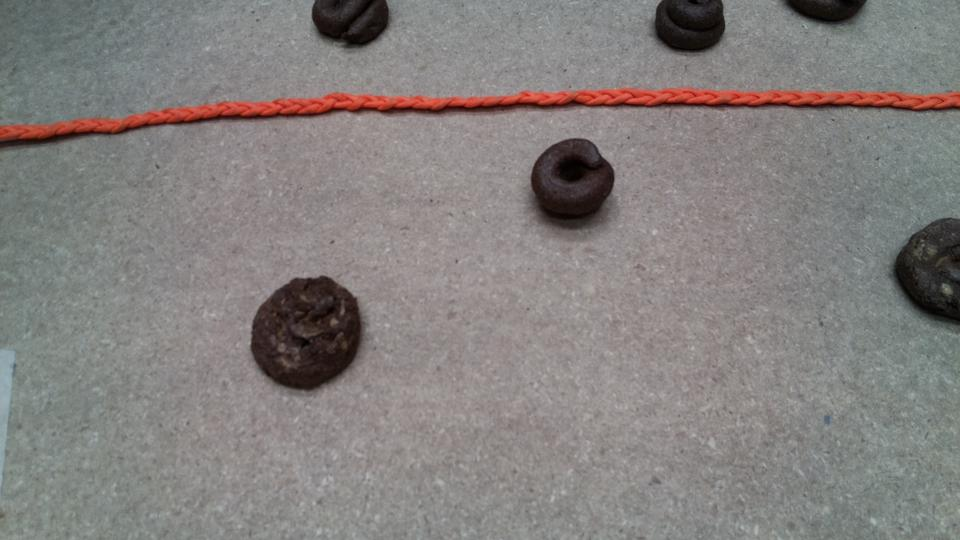poop: (243, 273, 380, 391), (526, 137, 626, 230), (891, 213, 960, 324), (309, 2, 390, 58)
rope: (203, 87, 960, 139), (3, 105, 271, 161)
